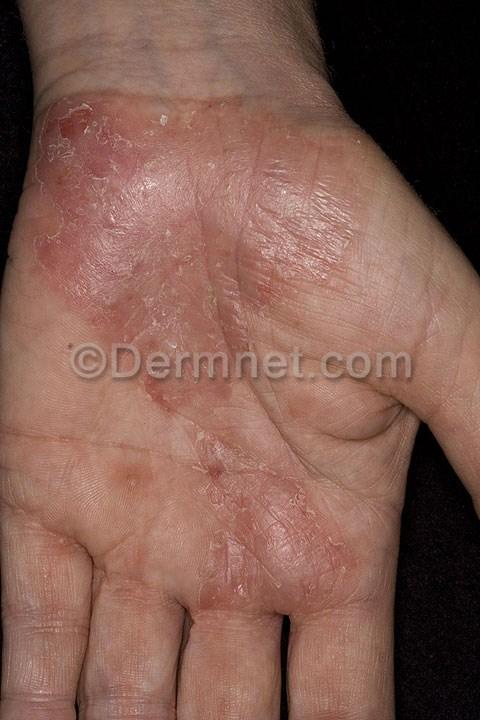Eczema: (32, 59, 310, 443), (195, 444, 369, 633), (300, 116, 423, 305), (79, 442, 183, 550)
